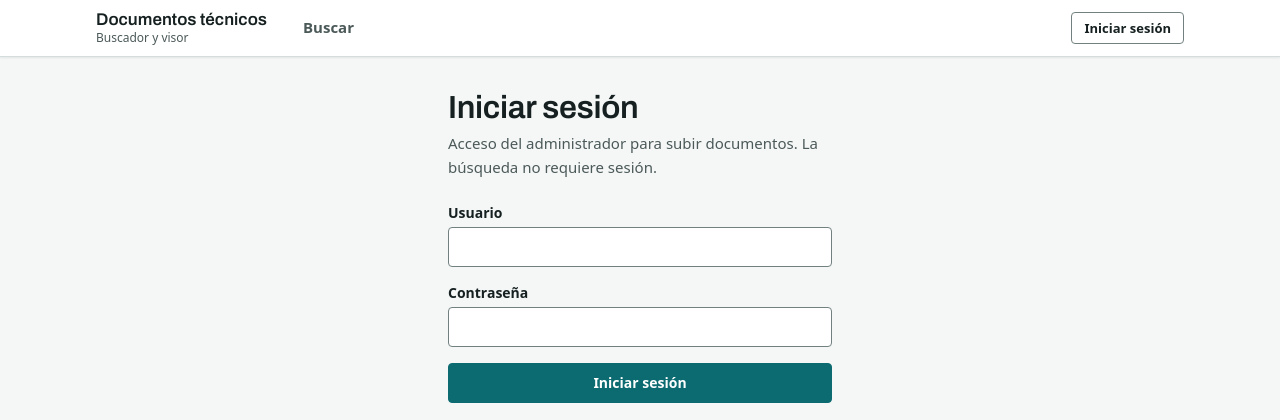
Scenario: Sesión del administrador › muestra un usuario con tildes tal cual (el JWT va en UTF-8)
The image size is (1280, 420).
In the field labelled "Usuario": (640, 247) x1=448 y1=227 x2=832 y2=267, type "josé"
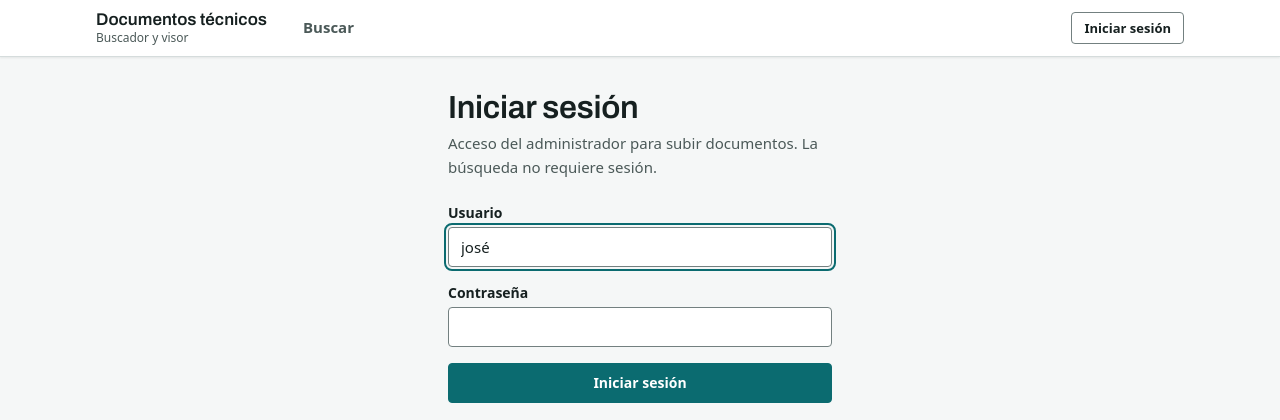
In the password field labelled "Contraseña": (640, 327) x1=448 y1=307 x2=832 y2=347, type "clave"
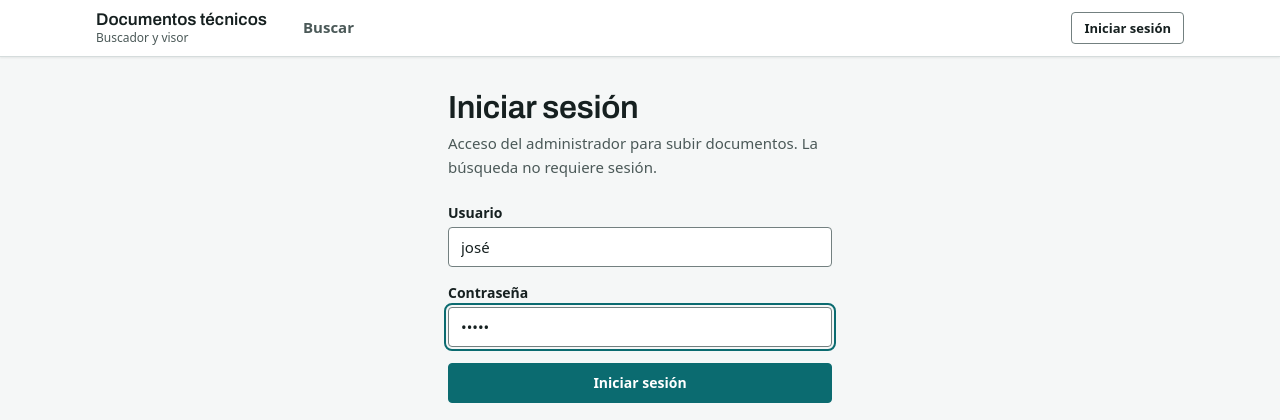
Click the button "Iniciar sesión": (640, 383) x1=448 y1=363 x2=832 y2=403
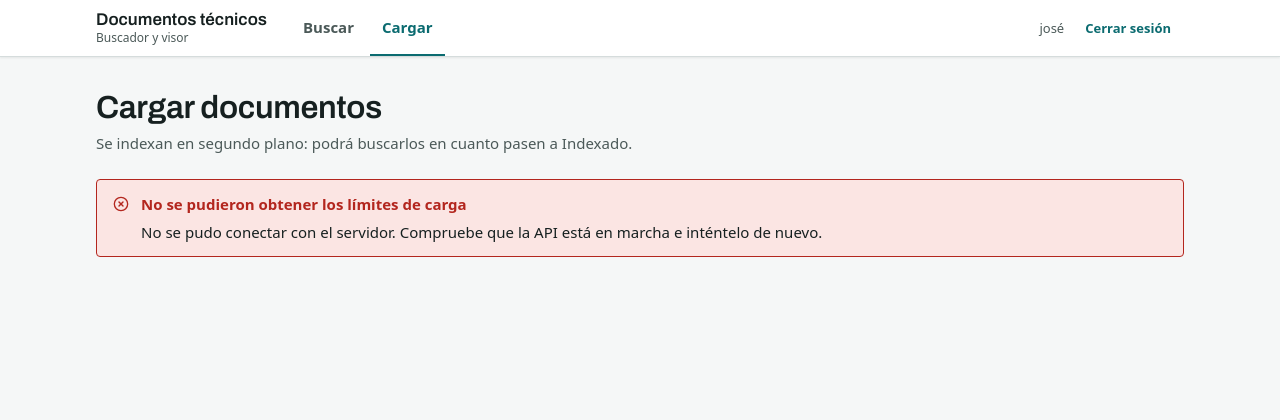
Expected: the text "josé" is shown, x1=1039 y1=16 x2=1064 y2=40
